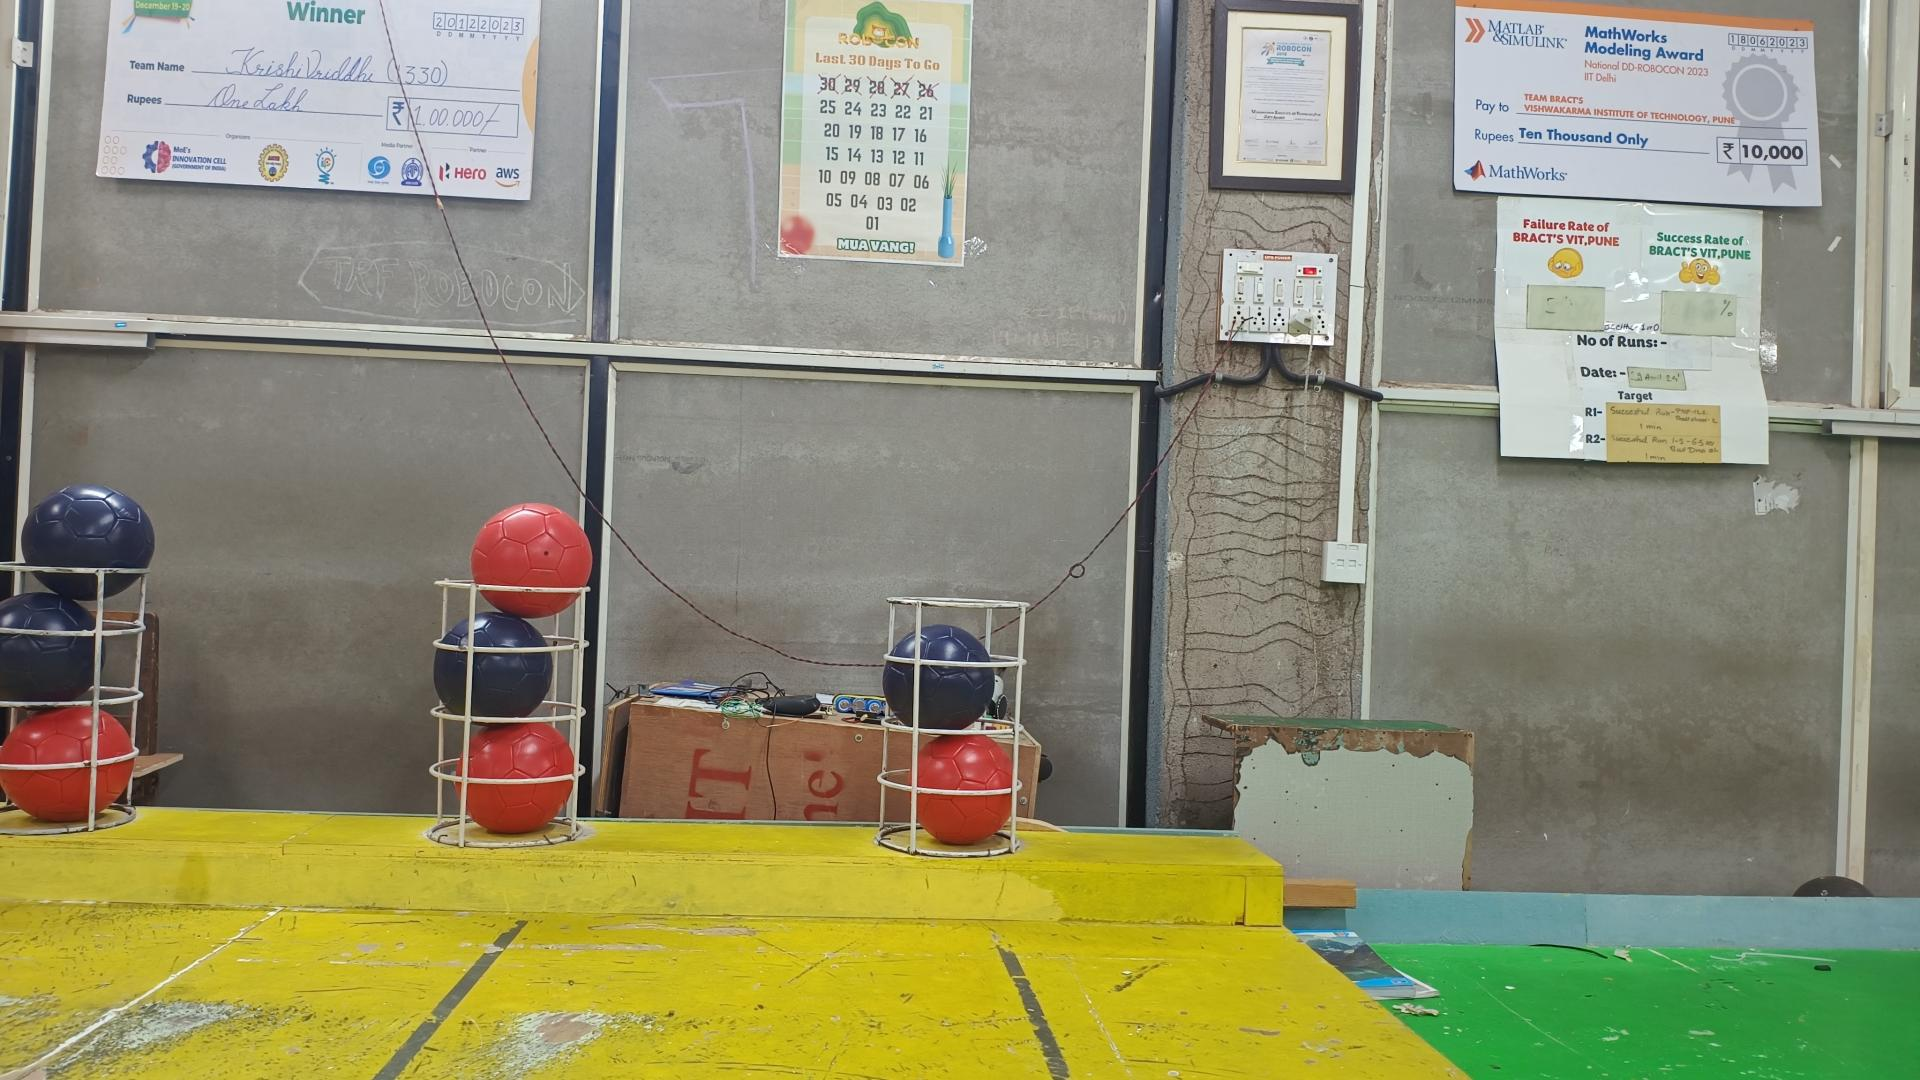dhoka: (18, 484, 154, 600), (431, 612, 555, 720), (881, 622, 994, 732), (0, 592, 108, 702)
laale: (0, 705, 135, 822), (472, 502, 592, 618), (454, 724, 578, 832), (907, 735, 1013, 844)
